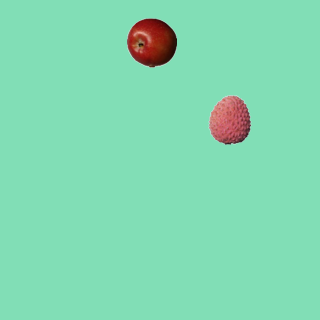Apple Braeburn: (126, 17, 176, 67)
Lychee: (204, 94, 254, 144)
